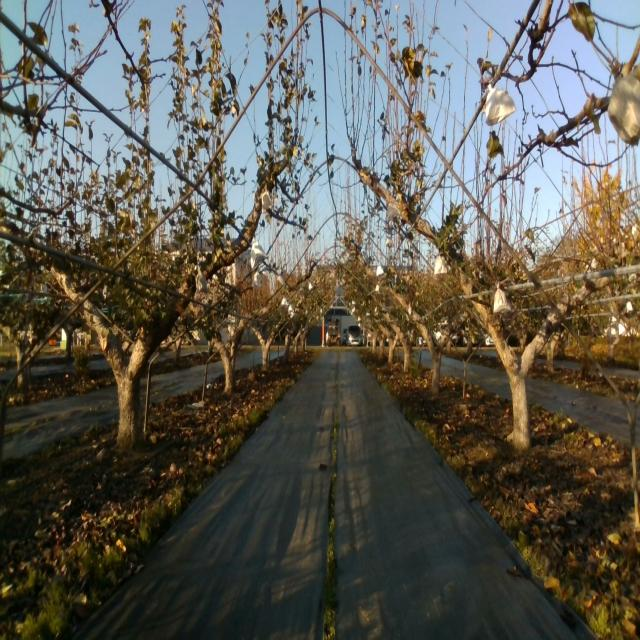pearbags: (606, 70, 640, 145), (486, 79, 516, 126), (494, 278, 511, 316), (250, 234, 269, 268), (194, 263, 210, 294), (385, 201, 400, 225), (433, 255, 449, 275), (262, 188, 274, 213)
